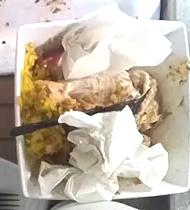chicken: (66, 69, 161, 132)
rice: (21, 43, 70, 124), (25, 125, 74, 179)
